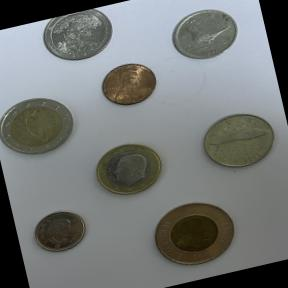1 Euro-B: (81, 128, 176, 208)
2 Euro-B: (0, 84, 86, 170)
Canada-10cent-B: (23, 203, 94, 264)
Canada-2Dollar-B: (140, 186, 252, 282)
Croatia-2Kune-B: (189, 98, 288, 183)
US-1cent-B: (91, 52, 168, 118)
US-25cent-B: (34, 3, 126, 74)
